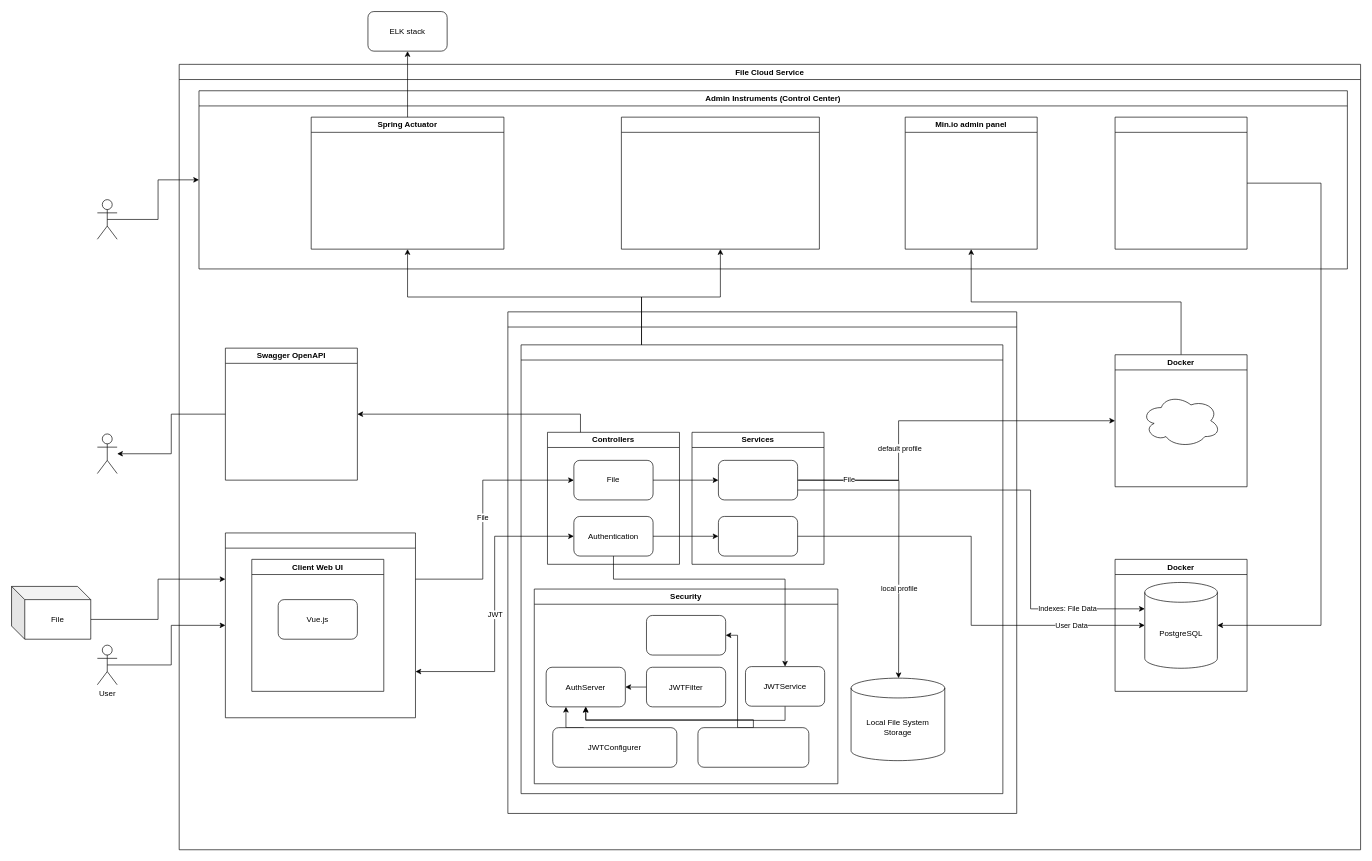
Some shapes in this 1372 by 861 pixel diagram are drawn without their labels. Each missing label, with the box of its shape:
Admin: (97, 199, 117, 239)
Backend: (507, 311, 1017, 813)
Developer: (97, 433, 117, 474)
Frontend Docker: (225, 532, 415, 718)
JWTUserDetailsService: (697, 727, 809, 767)
MinIO File Storage: (1141, 394, 1221, 447)
pgadmin4 Docker: (1114, 116, 1247, 249)
Security Config: (646, 615, 726, 655)
Spring Admin Panel: (621, 116, 819, 249)
Spring Boot: (520, 344, 1003, 794)
StorageService: (718, 460, 798, 500)
UserSevice: (718, 516, 798, 556)
